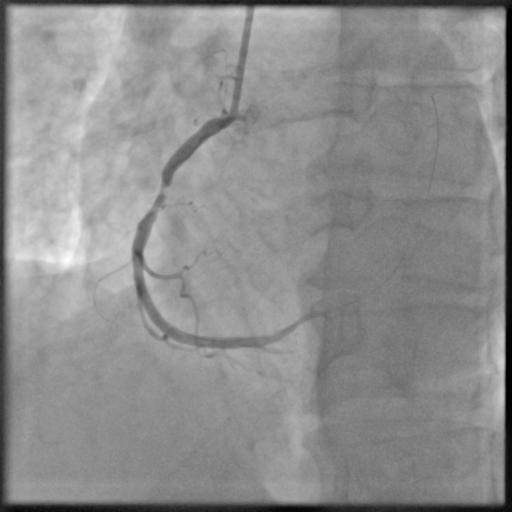Stenosis: (153, 174, 171, 210)
